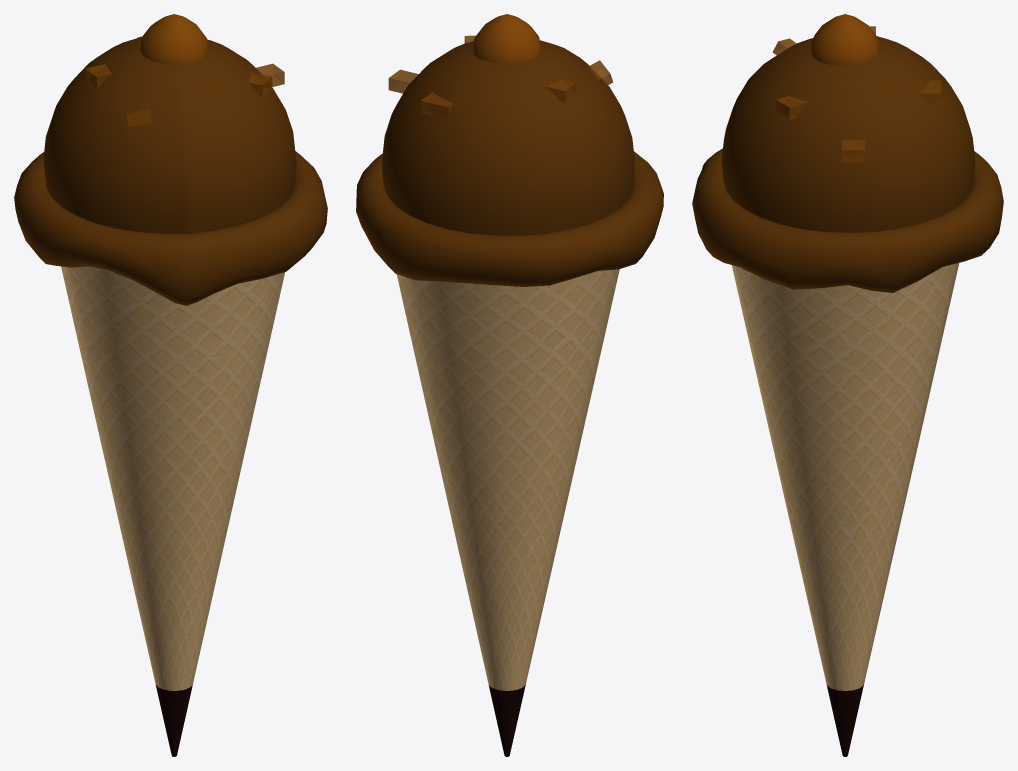
File: 1773580849_cus.glb
3 views of the same model, side by side, from view 1: azimuth 30°, elevation 25°; view 2: azimuth 150°, elevation 25°; view 3: azimuth 270°, elevation 25° (orthographic).
Parts seen in each view (by area): view 1: Sphere001_03 - Default_0, Cone001, Sphere002; view 2: Sphere001_03 - Default_0, Cone001, Sphere002, Box001; view 3: Sphere001_03 - Default_0, Cone001, Sphere002, Box002.
Part boxes in pixels (left/top/right/bottom): Sphere001_03 - Default_0: left=14, top=37, right=327, bottom=305; Cone001: left=61, top=266, right=284, bottom=756; Sphere002: left=139, top=14, right=209, bottom=65; Sphere001_03 - Default_0: left=356, top=40, right=663, bottom=286; Cone001: left=397, top=269, right=619, bottom=756; Sphere002: left=472, top=14, right=541, bottom=63; Box001: left=421, top=92, right=453, bottom=117; Sphere001_03 - Default_0: left=692, top=36, right=1003, bottom=292; Cone001: left=732, top=263, right=959, bottom=756; Sphere002: left=810, top=14, right=880, bottom=66; Box002: left=842, top=139, right=864, bottom=162.
Size of the model in its own units: 43.4 by 114 by 43.3.
5 materials, 1 textured.
